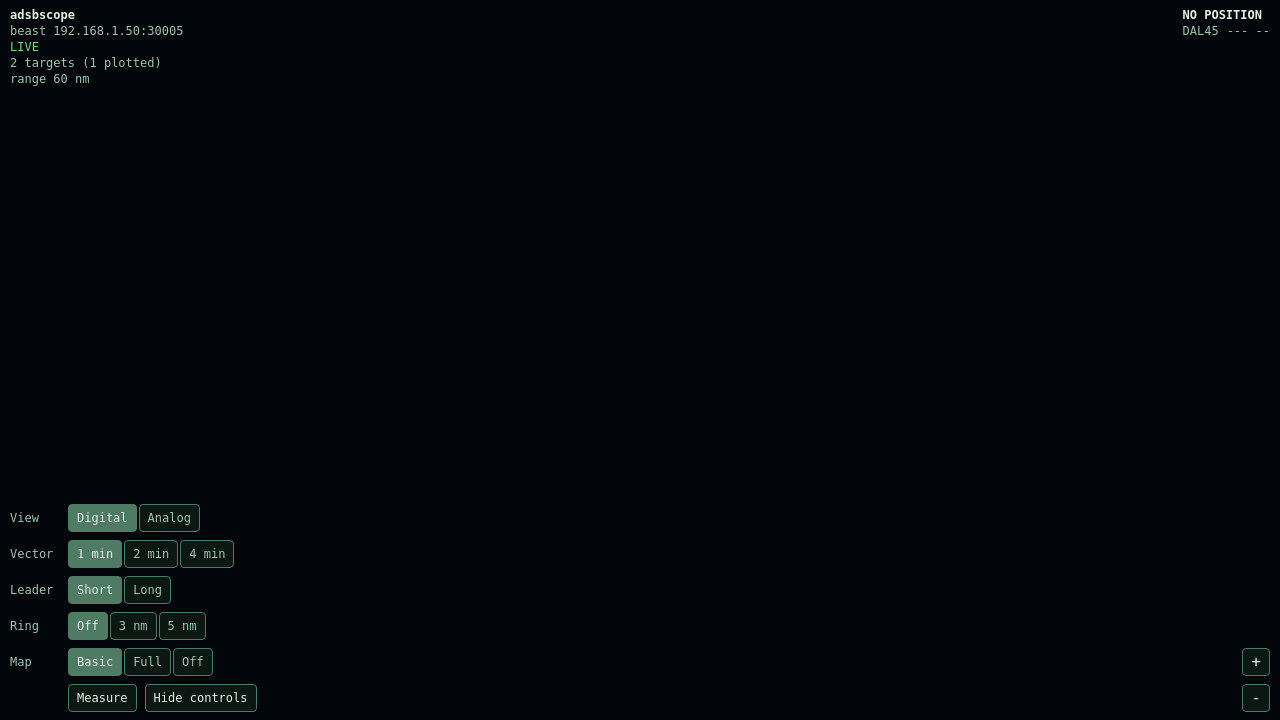
Scenario: ScopeView › range/bearing line › takes its ends from clicks on the scope, reads the line out, and keeps it across a view style and range change
Press b
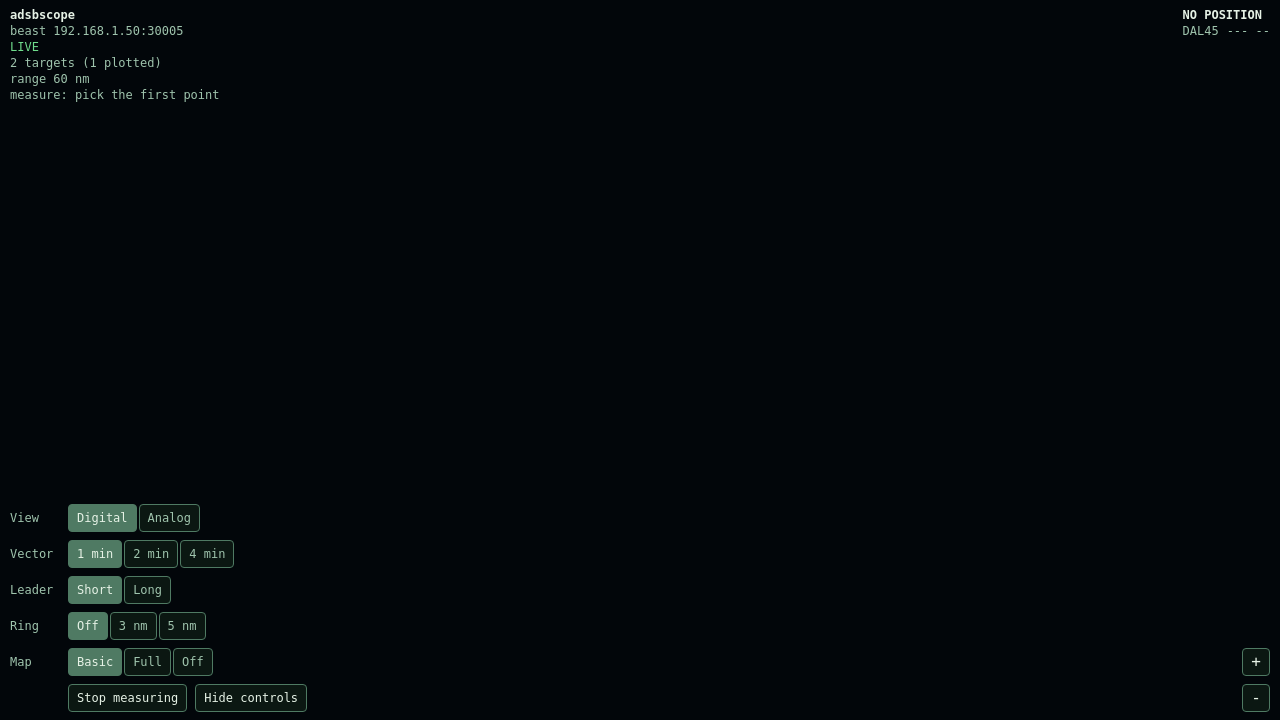
Click the drawing named "Radar scope".
click(640, 360)  # box top-left (0, 0), bottom-right (1279, 719)
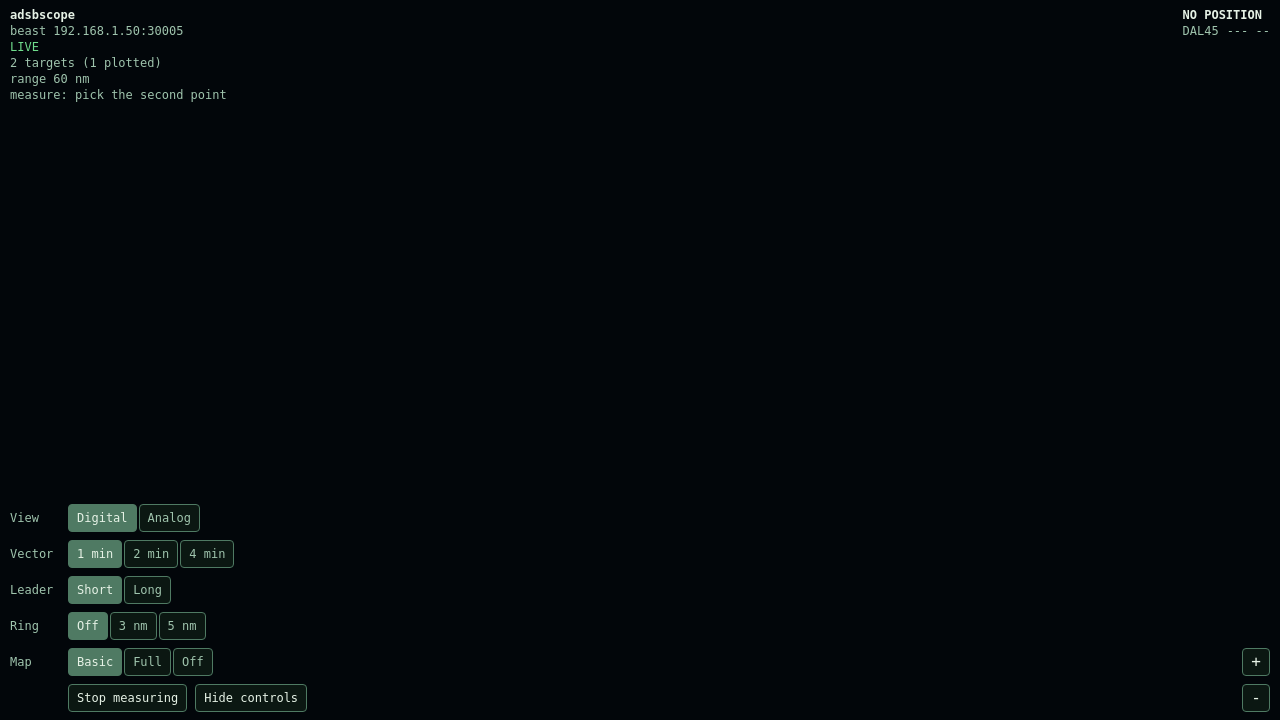
Expected: the text "measure: pick the second point" is shown, top-left (10, 88), bottom-right (227, 102)
Click the drawing named "Radar scope".
click(640, 360)  # box top-left (0, 0), bottom-right (1279, 719)
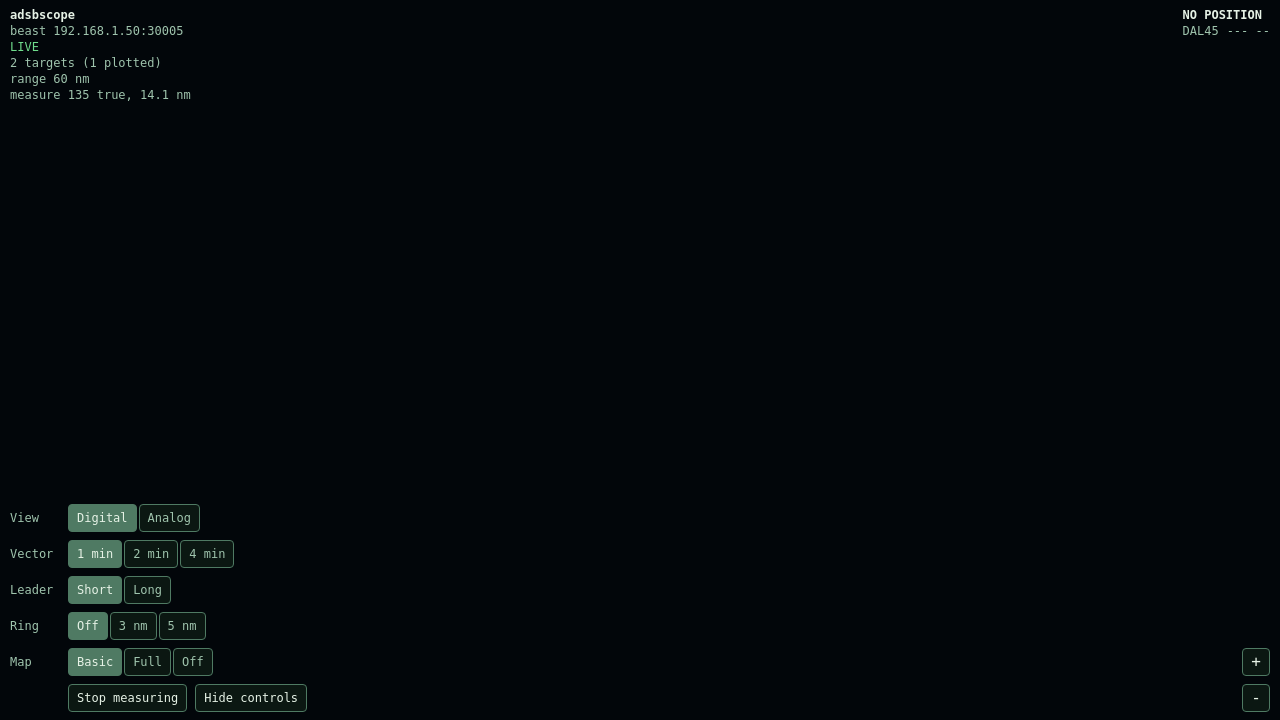
Expected: the text "measure 135 true, 14.1 nm" is shown, top-left (10, 88), bottom-right (191, 102)
Press m
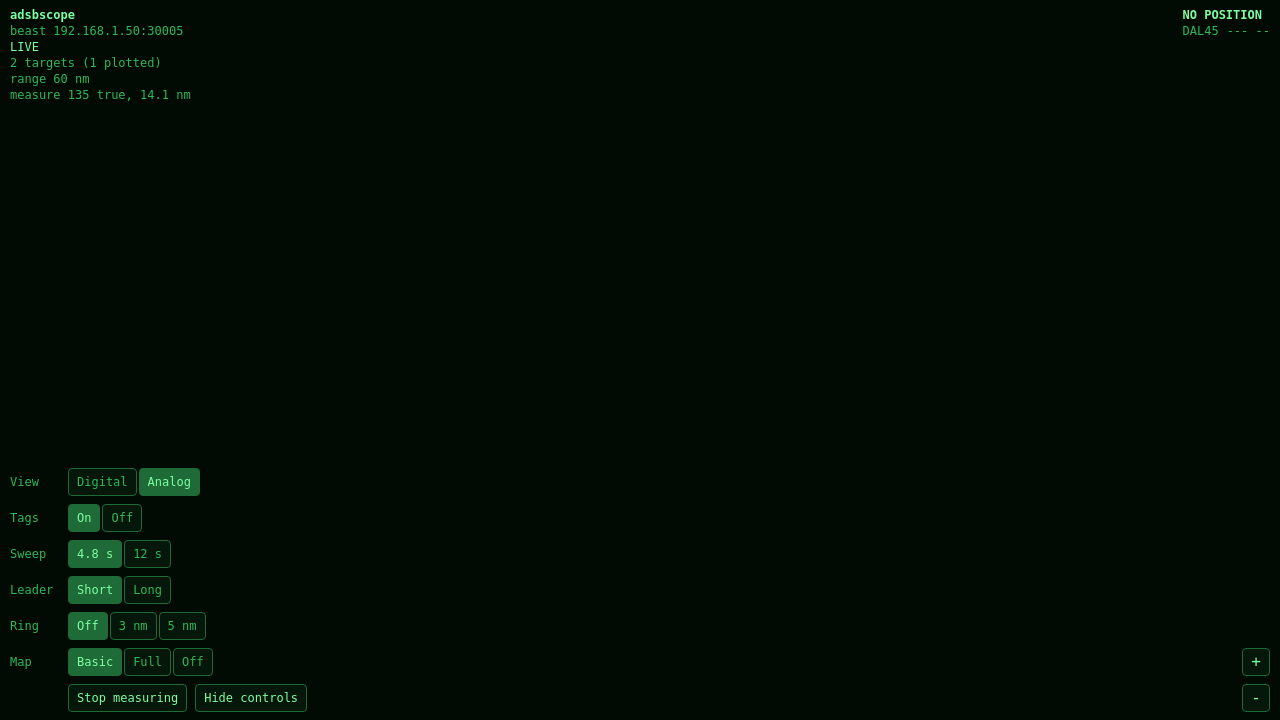
Press +
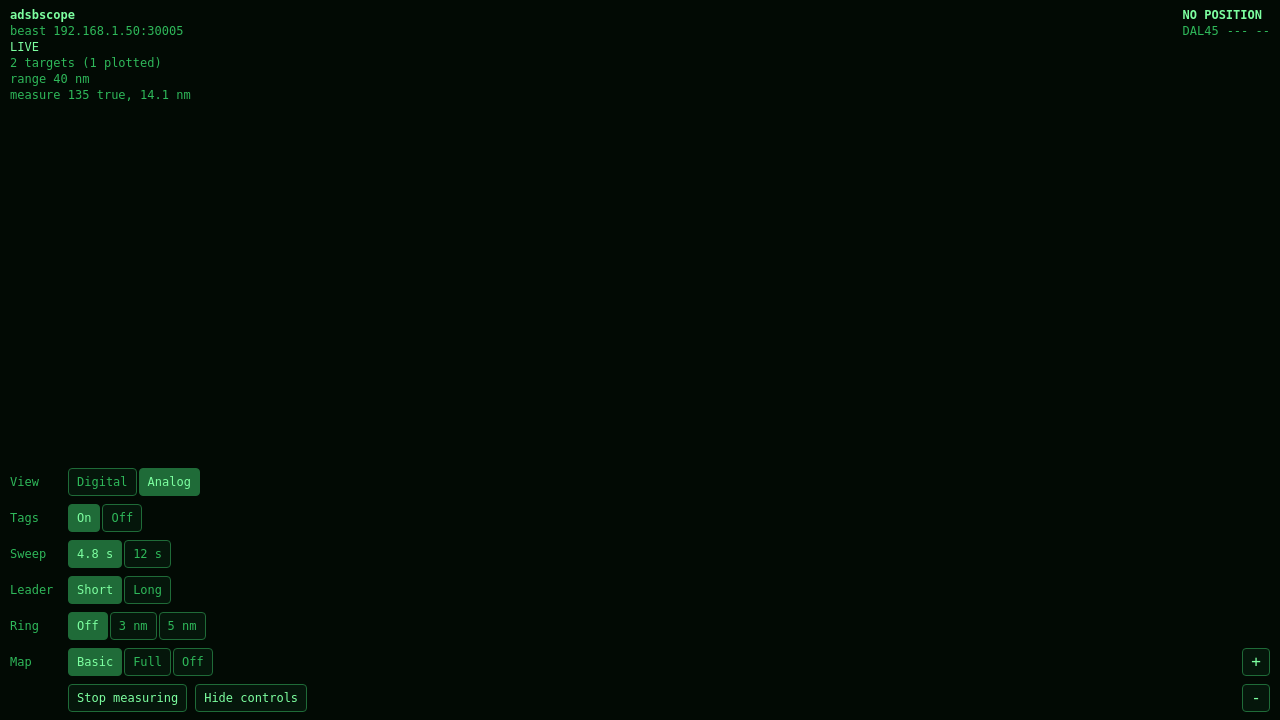
Expected: the text "measure 135 true, 14.1 nm" is shown, top-left (10, 88), bottom-right (191, 102)
Click the drawing named "Radar scope".
click(640, 360)  # box top-left (0, 0), bottom-right (1279, 719)
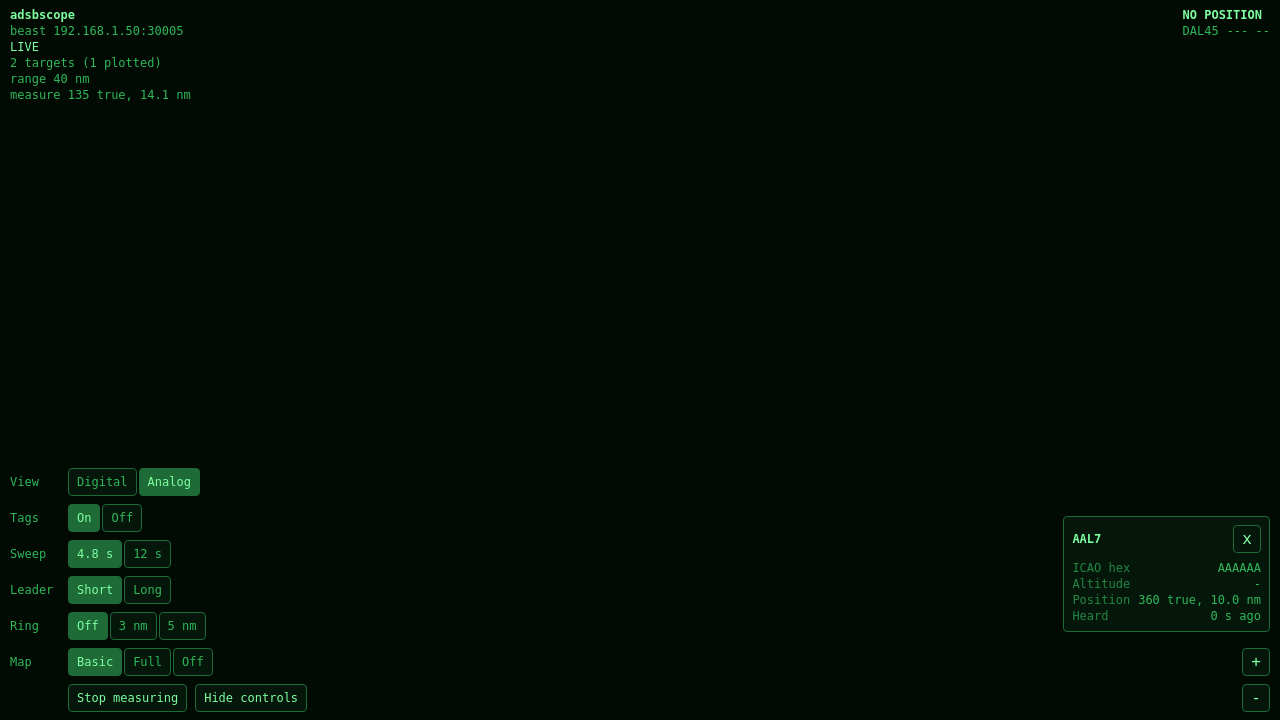
Expected: the text "measure 135 true, 14.1 nm" is shown, top-left (10, 88), bottom-right (191, 102)
Expected: the element named "Selected aircraft" shows "AAL7", top-left (1072, 532), bottom-right (1101, 546)
